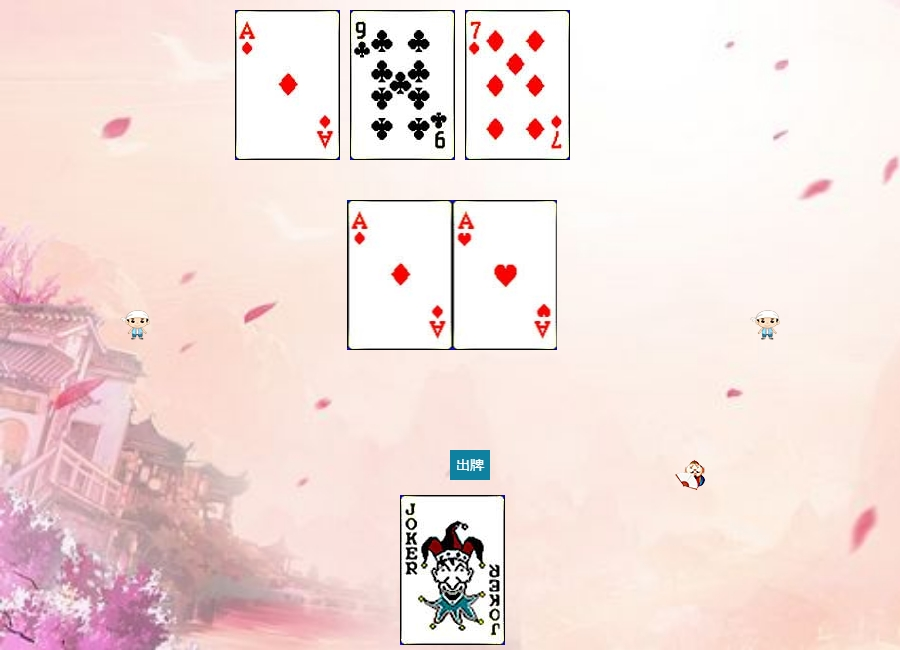14~1: (235, 10, 340, 160), (348, 200, 453, 350)
14~3: (453, 200, 558, 350)
17~3: (400, 495, 505, 645)
7~1: (465, 10, 570, 160)
9~2: (350, 10, 455, 160)
